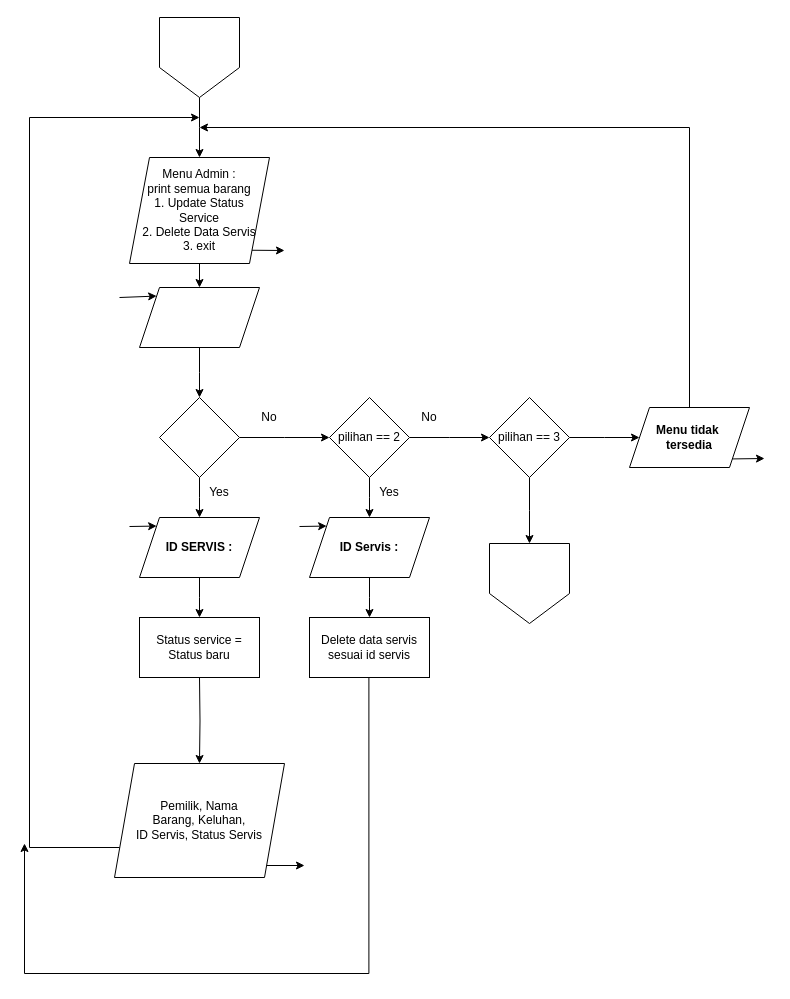
This 790x999 diagram has some shape labels left out. Here are the shapes that lost their labels. From the top down, the centre of each, then its label:
the point at 199,57: USER
the point at 199,317: Pilih menu :
the point at 199,437: pilihan == 1
the point at 529,583: OUT ADMIN
